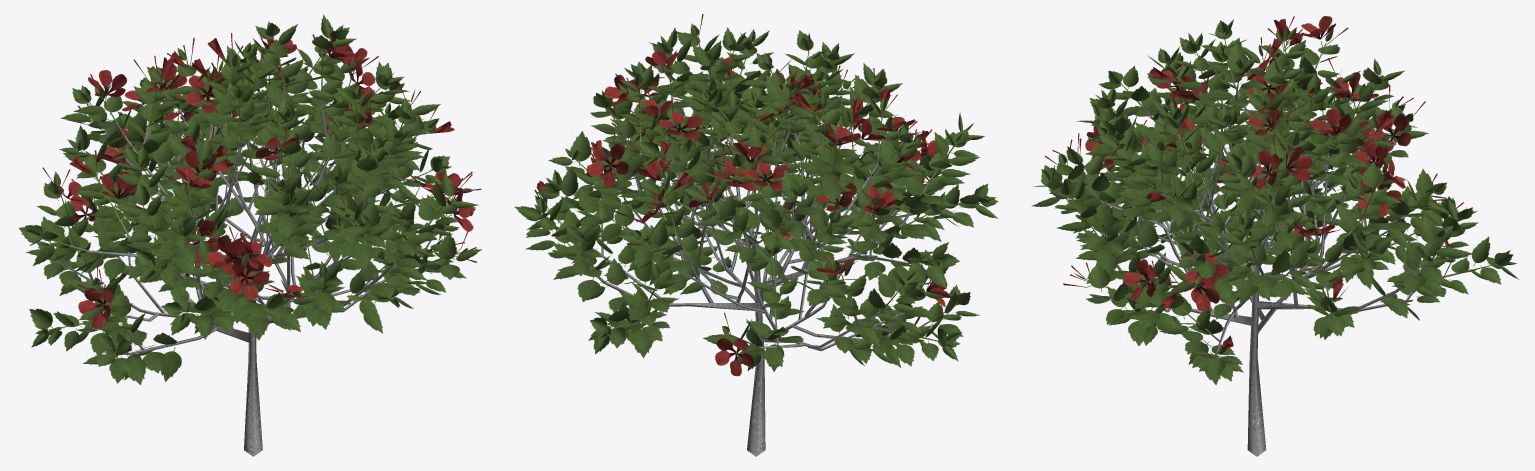
Rendered from hibiscus_hd.glb.
3 views of the same model, side by side, from view 1: azimuth 30°, elevation 25°; view 2: azimuth 150°, elevation 25°; view 3: azimuth 270°, elevation 25° (orthographic).
Visible parts, largest first — view 1: Hibiscus_rosa_sinensis_HD_w; view 2: Hibiscus_rosa_sinensis_HD_w; view 3: Hibiscus_rosa_sinensis_HD_w.
Boxes of the visible parts, bbox=[...] form: Hibiscus_rosa_sinensis_HD_w: bbox=[19, 14, 481, 456]; Hibiscus_rosa_sinensis_HD_w: bbox=[514, 14, 998, 456]; Hibiscus_rosa_sinensis_HD_w: bbox=[1031, 16, 1519, 456].
Size of the model in its own units: 3.34 by 3.27 by 3.49.
Materials: 9 (9 with a texture image).
